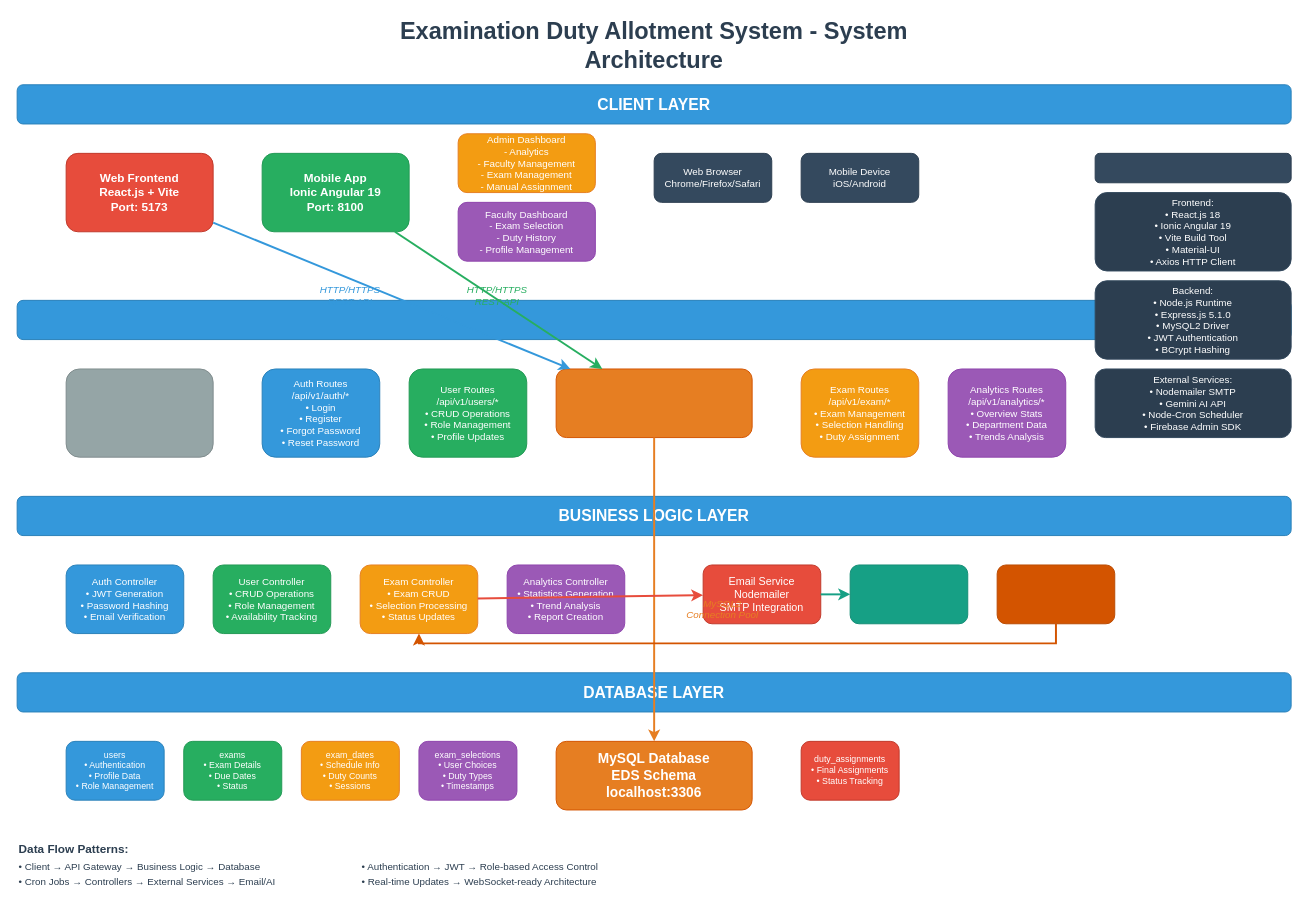
This 1308x905 diagram has some shape labels left out. The shapes that lost their labels are listed below. From the top down, each one's box as (x1, y1, x2, y2) in pixels, then its label:
(1094, 152, 1291, 183): TECHNOLOGY STACK
(16, 299, 1291, 340): API GATEWAY LAYER
(65, 368, 213, 457): Middleware Stack • CORS • Body Parser • JWT Verification • Request Logging
(555, 368, 752, 438): Express.js Server Node.js Runtime Port: 3000
(849, 564, 968, 624): AI Email Agent Gemini API Content Generation
(996, 564, 1115, 624): Cron Scheduler Node-Cron Automated Tasks
